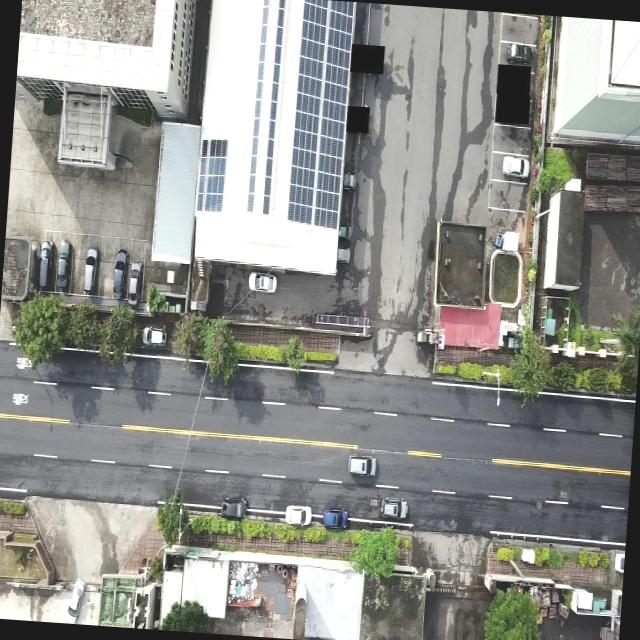car: (53, 238, 73, 294), (33, 238, 53, 292), (110, 246, 128, 302), (80, 246, 100, 296), (501, 150, 532, 180), (66, 577, 86, 621), (126, 256, 142, 306), (347, 453, 378, 478), (246, 270, 278, 294), (219, 494, 247, 520), (284, 502, 312, 527), (380, 496, 408, 520), (140, 324, 168, 346), (321, 506, 348, 528)
